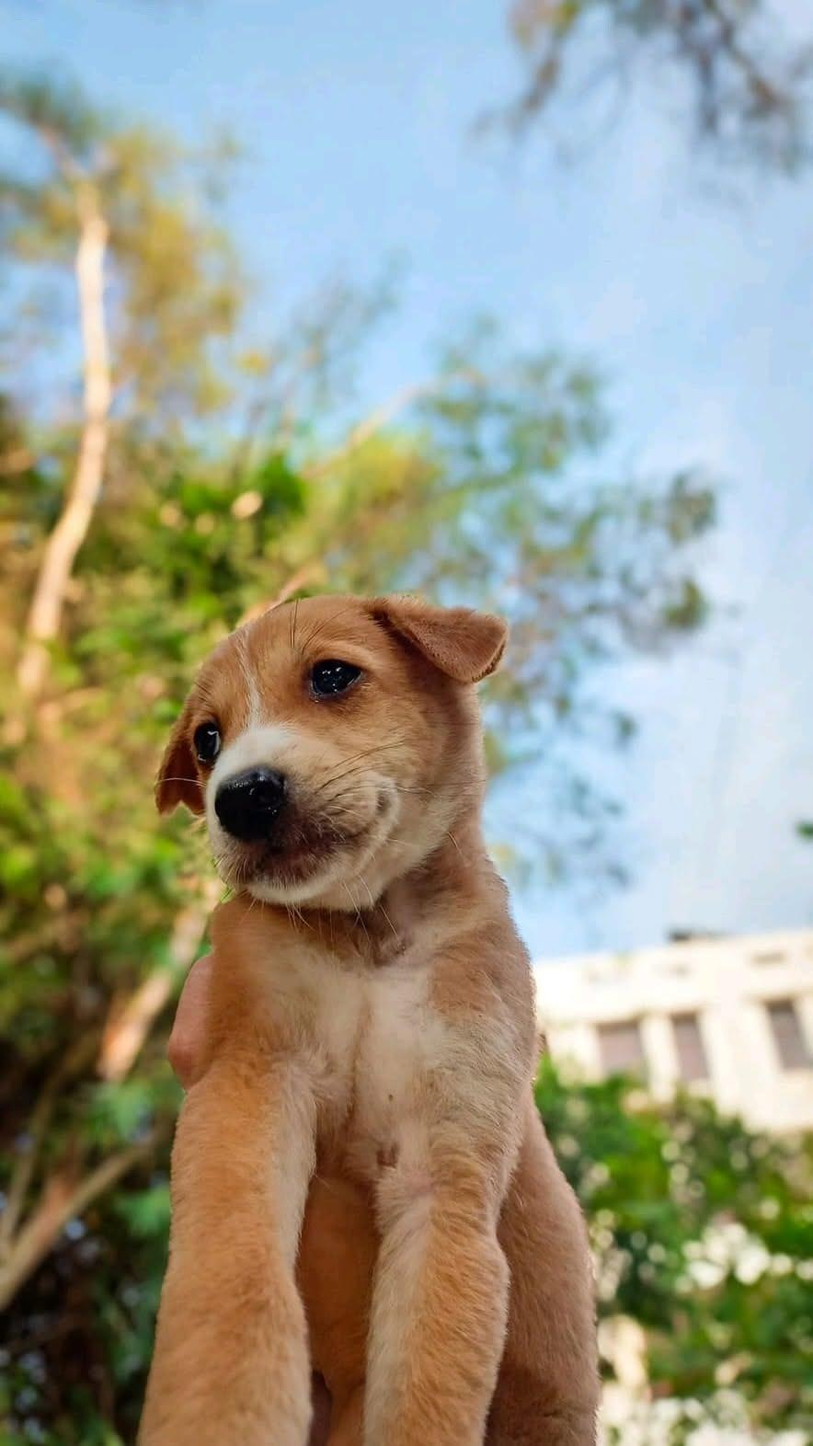puppy-dog: (138, 591, 605, 1446)
